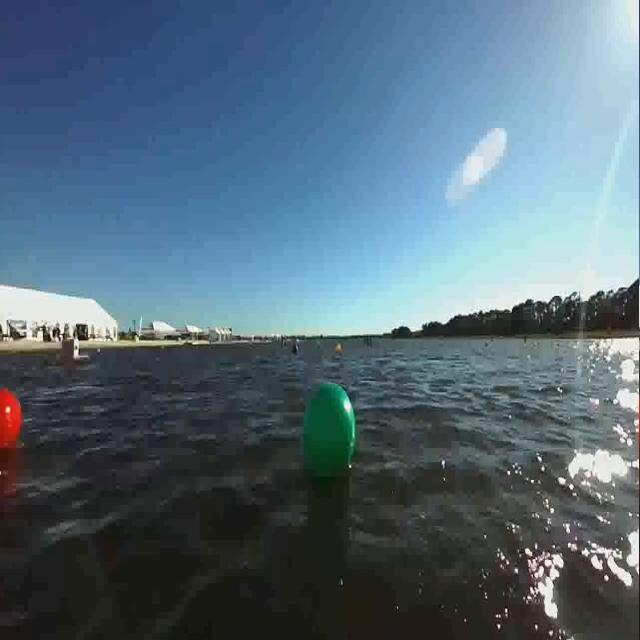blue-buoy: (294, 344, 300, 356)
green-buoy: (304, 381, 359, 488)
red-buoy: (0, 389, 22, 452)
yellow-buoy: (337, 344, 343, 354)
